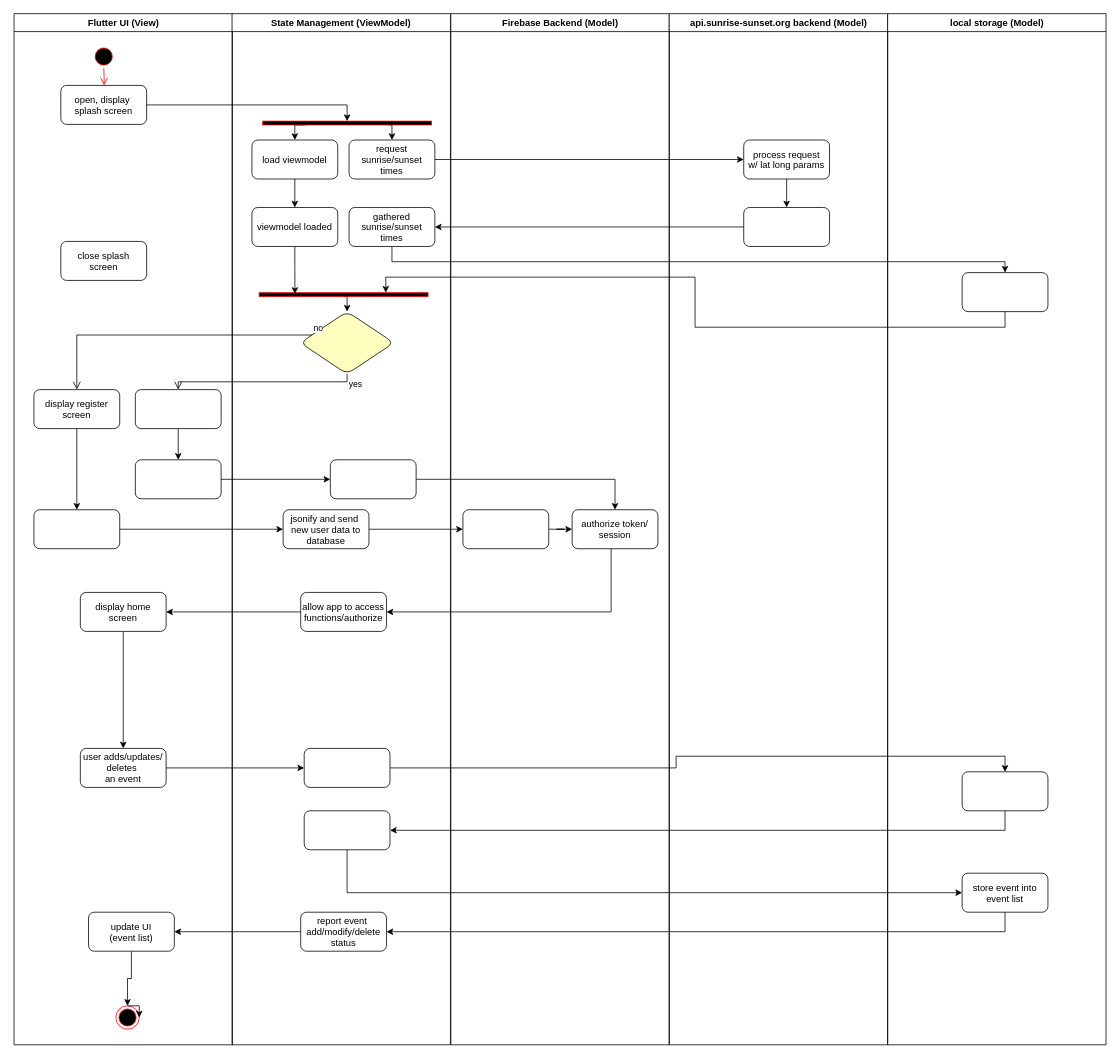
This 1119x1058 diagram has some shape labels left out. The shapes that lost their labels are listed below. From the top down, each one's centre as x and y in pixels, then its label:
At point (786, 226): "return json of sunrise/sunset times".
At point (1004, 292): "add/store current sunrise/sunset times".
At point (347, 342): "user data exists in local storage?".
At point (178, 409): "display login screen".
At point (178, 479): "user logs in, fills fields and pressed 'login'".
At point (373, 479): "jsonify and send login data to database".
At point (76, 529): "user registers, fills in fields and pressed 'register'".
At point (505, 529): "store new user data".
At point (346, 767): "get solar times".
At point (1004, 791): "return current sunrise/sunset times".
At point (346, 830): "store/modify/delete event data, based on solar times".
